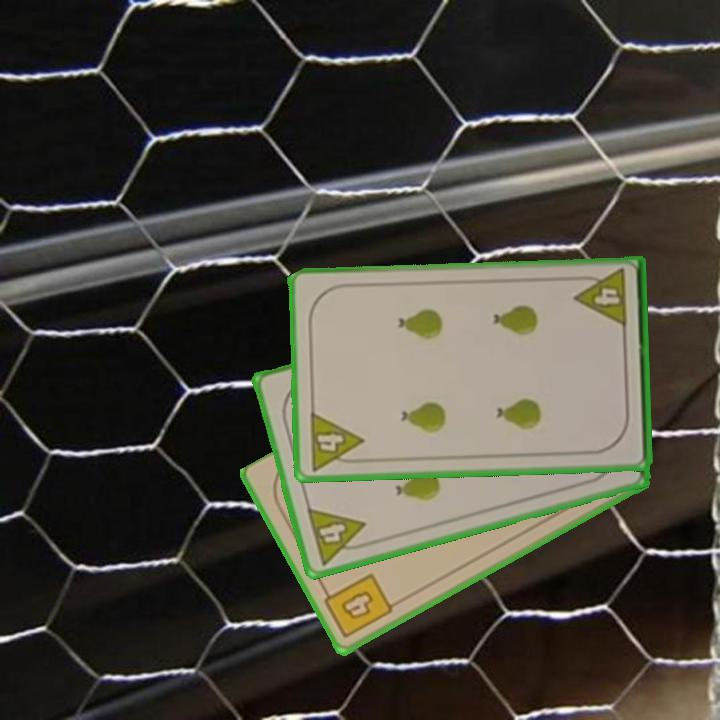4b: (318, 570, 396, 642)
4p: (303, 504, 374, 568), (305, 408, 367, 473), (571, 266, 630, 331)
